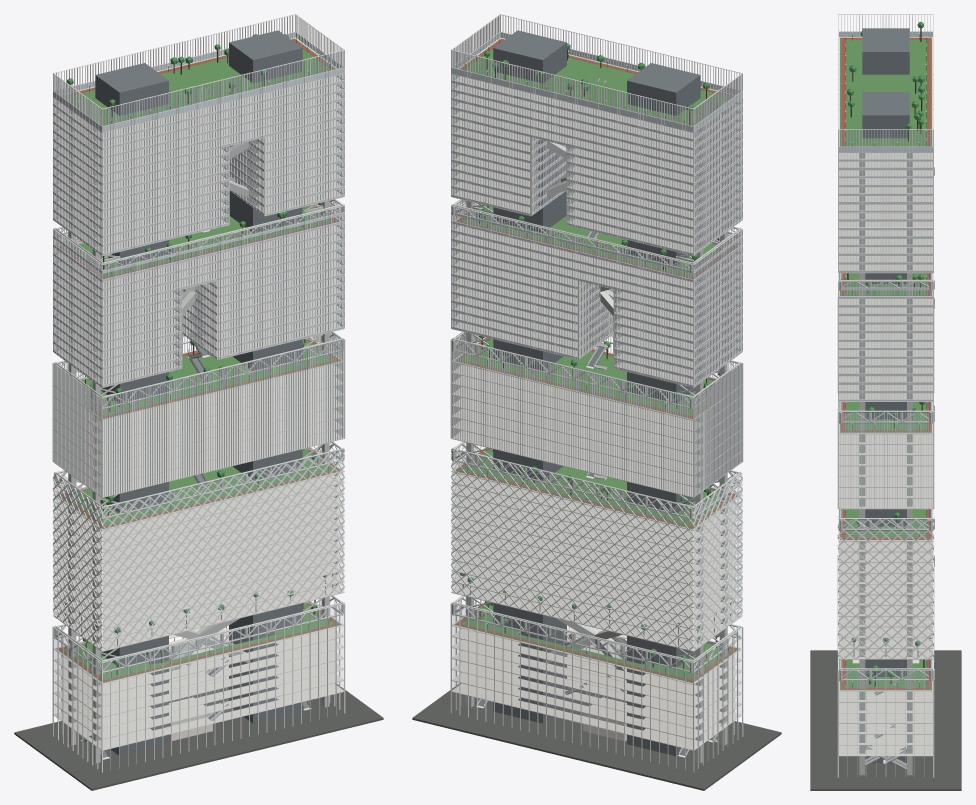
The model's file is the_stack.optimized.glb.
3 renders of one model, left to right at view 1: azimuth 30°, elevation 25°; view 2: azimuth 150°, elevation 25°; view 3: azimuth 270°, elevation 25°, orthographic. The views are drawn at different scales.
Parts seen in each view (by area): view 1: Web_Stack_Slabs_Dual, Web_Stack_Apartment_Frame, Web_Stack_Glass_Cool_Web_Dual, Web_Stack_Glass_Dark_Web_Dual, Web_Stack_Frame, Web_Stack_Glass_Frost_Web_Dual, Web_Stack_Spandrel_Blue, Web_Stack_Core, Web_Stack_Lawn, Web_Stack_Core_Steel, Ground_Site, Web_Stack_Track (+1 smaller); view 2: Web_Stack_Slabs_Dual, Web_Stack_Apartment_Frame, Web_Stack_Glass_Cool_Web_Dual, Web_Stack_Glass_Dark_Web_Dual, Web_Stack_Frame, Web_Stack_Glass_Frost_Web_Dual, Web_Stack_Spandrel_Blue, Web_Stack_Core, Web_Stack_Lawn, Web_Stack_Core_Steel, Ground_Site, Web_Stack_Track (+1 smaller); view 3: Web_Stack_Slabs_Dual, Web_Stack_Glass_Cool_Web_Dual, Web_Stack_Apartment_Frame, Web_Stack_Glass_Dark_Web_Dual, Ground_Site, Web_Stack_Frame, Web_Stack_Lawn, Web_Stack_Core_Steel, Web_Stack_Glass_Frost_Web_Dual, Web_Stack_Spandrel_Blue, Web_Stack_Core, Web_Stack_Track (+3 smaller).
Part boxes in pixels (<box>): Web_Stack_Slabs_Dual: <box>53,37,344,749</box>; Web_Stack_Apartment_Frame: <box>52,14,345,772</box>; Web_Stack_Glass_Cool_Web_Dual: <box>53,340,343,650</box>; Web_Stack_Glass_Dark_Web_Dual: <box>53,51,343,384</box>; Web_Stack_Frame: <box>52,86,345,759</box>; Web_Stack_Glass_Frost_Web_Dual: <box>54,604,343,749</box>; Web_Stack_Spandrel_Blue: <box>53,32,344,387</box>; Web_Stack_Core: <box>83,30,309,758</box>; Web_Stack_Lawn: <box>56,38,341,682</box>; Web_Stack_Core_Steel: <box>54,109,344,763</box>; Ground_Site: <box>14,683,383,790</box>; Web_Stack_Track: <box>58,39,339,682</box>; Web_Stack_Slabs_Dual: <box>451,37,742,749</box>; Web_Stack_Apartment_Frame: <box>450,14,743,772</box>; Web_Stack_Glass_Cool_Web_Dual: <box>452,341,742,650</box>; Web_Stack_Glass_Dark_Web_Dual: <box>452,51,742,384</box>; Web_Stack_Frame: <box>450,78,743,757</box>; Web_Stack_Glass_Frost_Web_Dual: <box>452,605,741,749</box>; Web_Stack_Spandrel_Blue: <box>451,32,742,387</box>; Web_Stack_Core: <box>477,30,724,755</box>; Web_Stack_Lawn: <box>454,38,739,682</box>; Web_Stack_Core_Steel: <box>451,109,741,763</box>; Ground_Site: <box>412,683,781,790</box>; Web_Stack_Track: <box>456,39,737,682</box>; Web_Stack_Slabs_Dual: <box>838,37,933,755</box>; Web_Stack_Glass_Cool_Web_Dual: <box>839,413,932,658</box>; Web_Stack_Apartment_Frame: <box>837,14,934,777</box>; Web_Stack_Glass_Dark_Web_Dual: <box>839,130,932,399</box>; Ground_Site: <box>810,650,961,790</box>; Web_Stack_Frame: <box>837,91,934,769</box>; Web_Stack_Lawn: <box>840,37,931,690</box>; Web_Stack_Core_Steel: <box>838,153,934,775</box>; Web_Stack_Glass_Frost_Web_Dual: <box>839,670,932,755</box>; Web_Stack_Spandrel_Blue: <box>839,32,932,401</box>; Web_Stack_Core: <box>862,28,909,770</box>; Web_Stack_Track: <box>841,38,930,689</box>.
Size of what is drawn, in the model's own units: 139 by 303 by 63.99.
